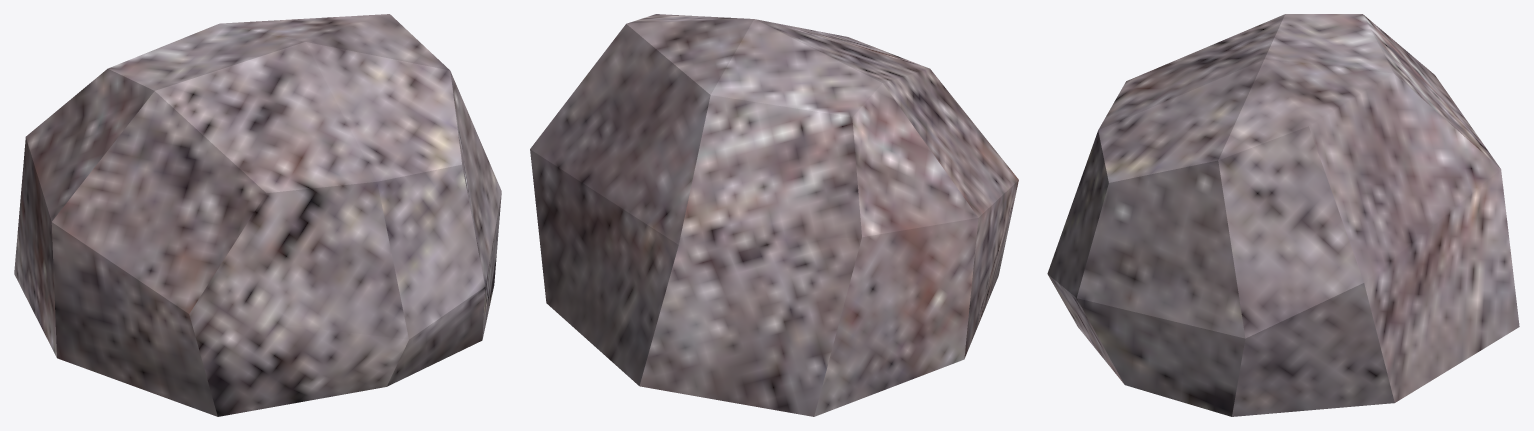
The model's file is MS_Rock_2.fbx.
The picture shows the model from 3 angles, left to right: view 1: azimuth 30°, elevation 25°; view 2: azimuth 150°, elevation 25°; view 3: azimuth 270°, elevation 25°; orthographic projection.
Visible parts, largest first — view 1: MSH_Rock_01; view 2: MSH_Rock_01; view 3: MSH_Rock_01.
Part boxes in pixels (left/top/right/bottom): MSH_Rock_01: left=14, top=14, right=501, bottom=416; MSH_Rock_01: left=530, top=14, right=1018, bottom=416; MSH_Rock_01: left=1047, top=14, right=1519, bottom=416.
Size of the model in its own units: 71.04 by 43.94 by 68.19.
